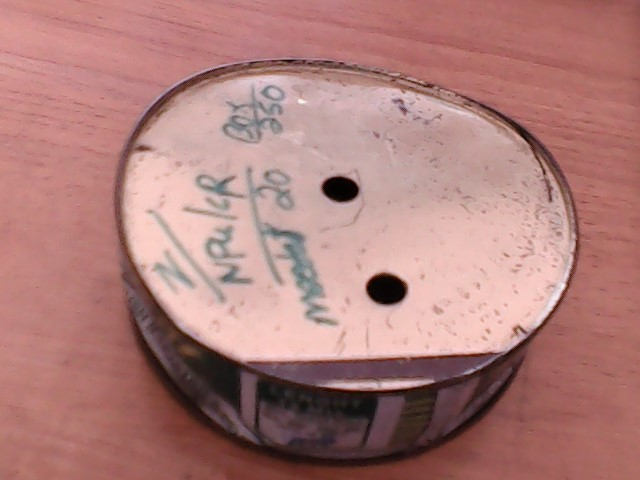Metal: (99, 40, 609, 480)
